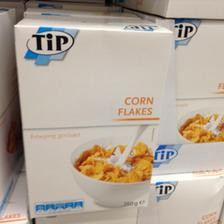Cerealien: (11, 14, 172, 218)
